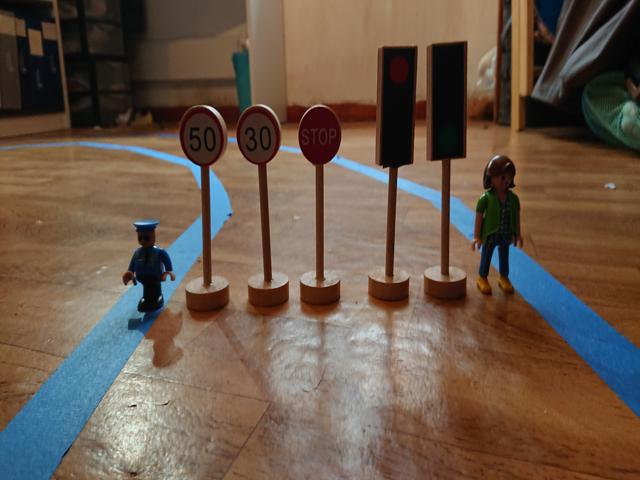30 speed sign: (236, 107, 280, 165)
50 speed sign: (176, 110, 225, 167)
green light: (434, 49, 462, 156)
person: (474, 149, 524, 297), (122, 219, 175, 312)
red light: (381, 49, 412, 157)
stop sign: (295, 106, 343, 166)
